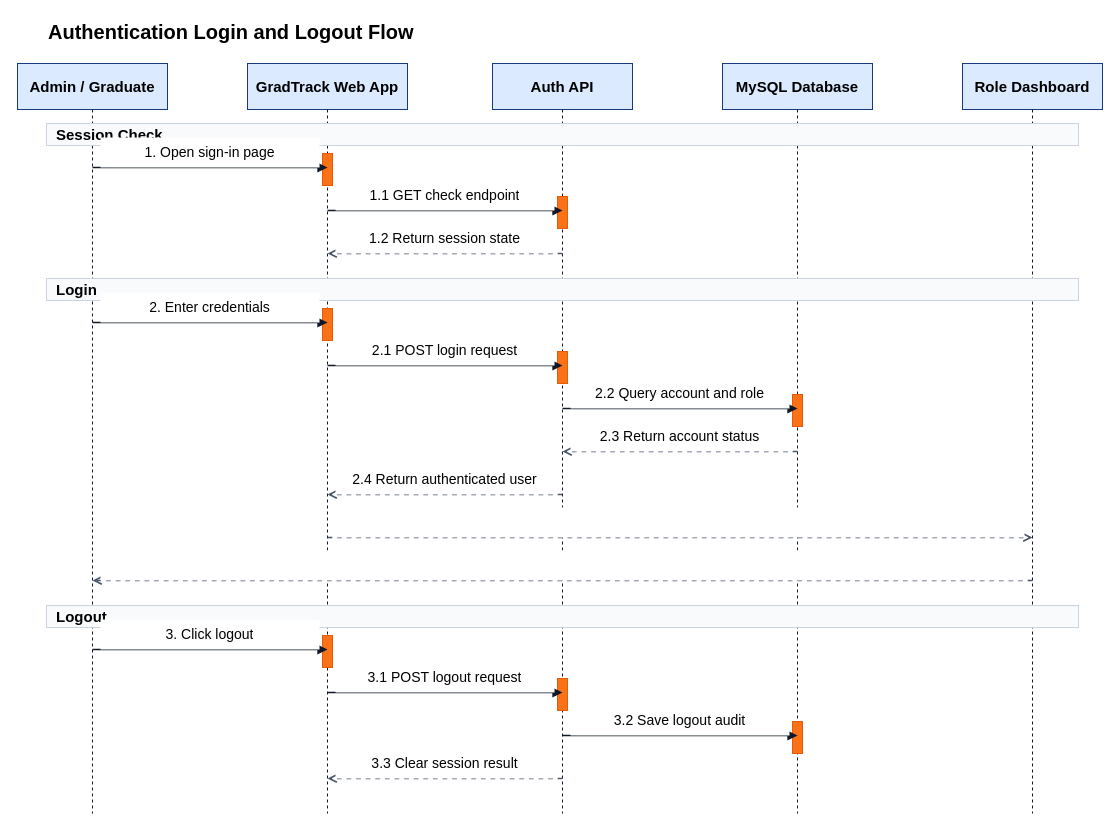
This 1120x832 diagram has some shape labels left out. Here are the shapes that lost their labels. From the top down, the box of each, then its label:
(335, 507, 1024, 537): 2.5 Redirect by role
(100, 550, 1024, 580): 2.6 Display dashboard
